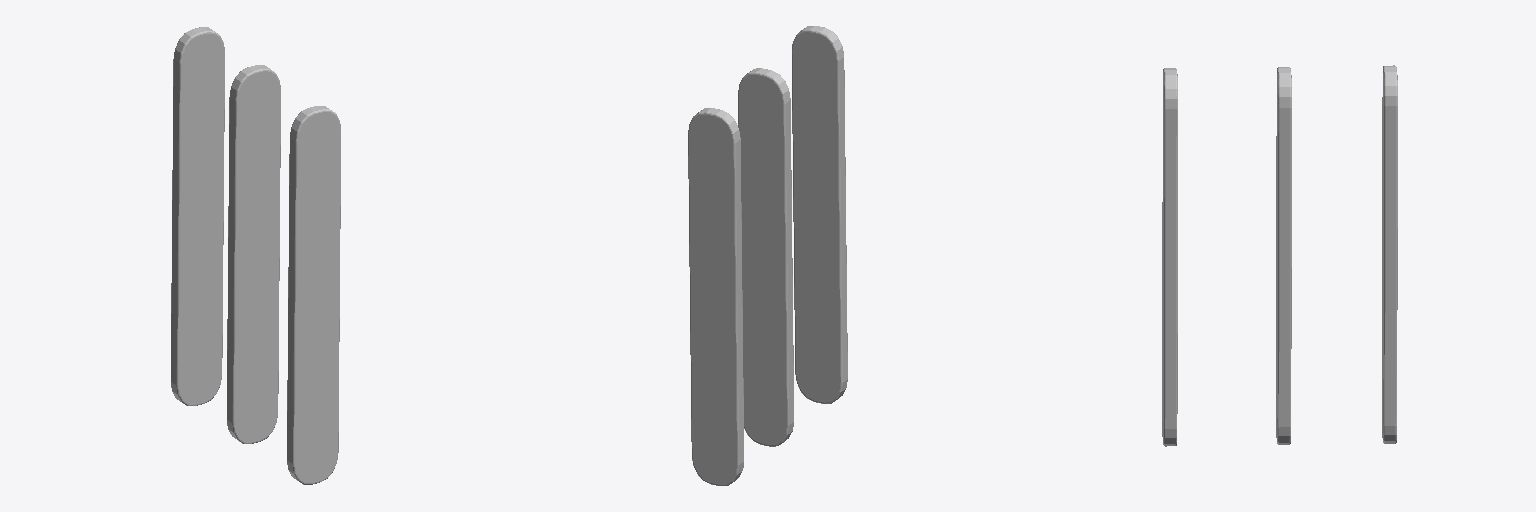
Rendered from ladder_steps.obj.
3 views of the same model, side by side, from view 1: azimuth 30°, elevation 25°; view 2: azimuth 150°, elevation 25°; view 3: azimuth 270°, elevation 25° (orthographic).
Parts seen in each view (by area): view 1: ladder_steps1:Mesh; view 2: ladder_steps1:Mesh; view 3: ladder_steps1:Mesh.
Part boxes in pixels (x1,y1,x2,y2): ladder_steps1:Mesh: (171, 27, 340, 484); ladder_steps1:Mesh: (688, 26, 847, 485); ladder_steps1:Mesh: (1162, 65, 1397, 446).
Bounding box in the file's own units: 0.2011 × 1.27 × 0.7276.